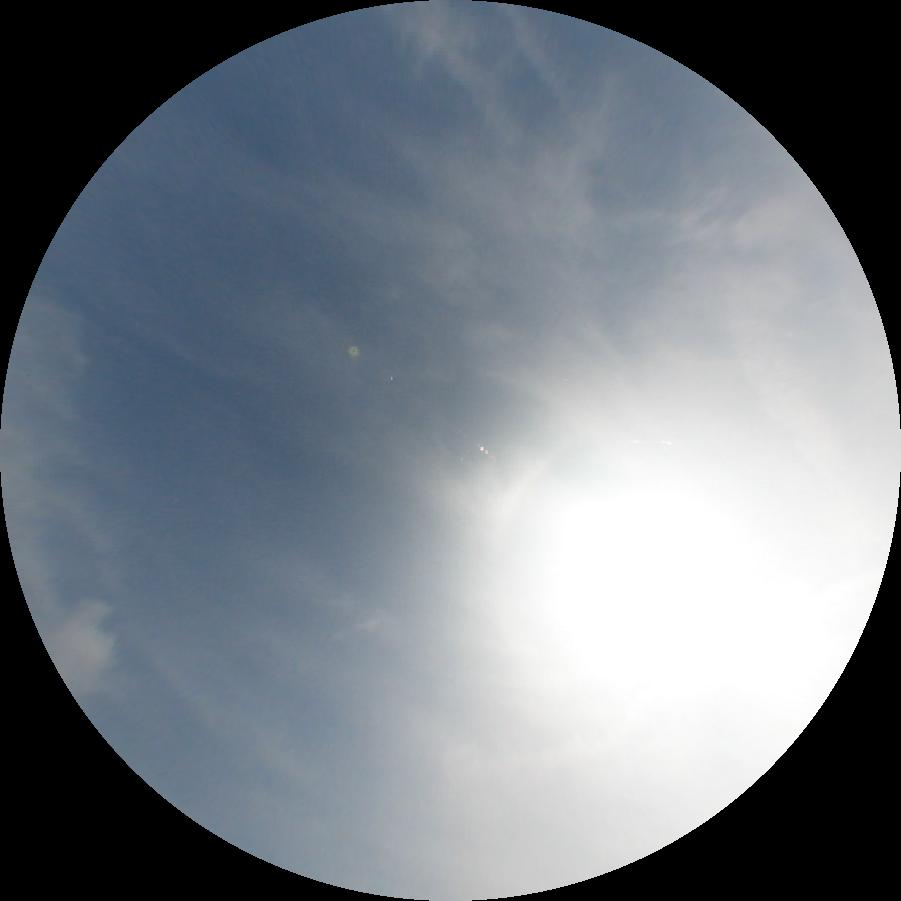contrail veryold: (499, 4, 582, 109)
sun: (578, 472, 804, 640)
